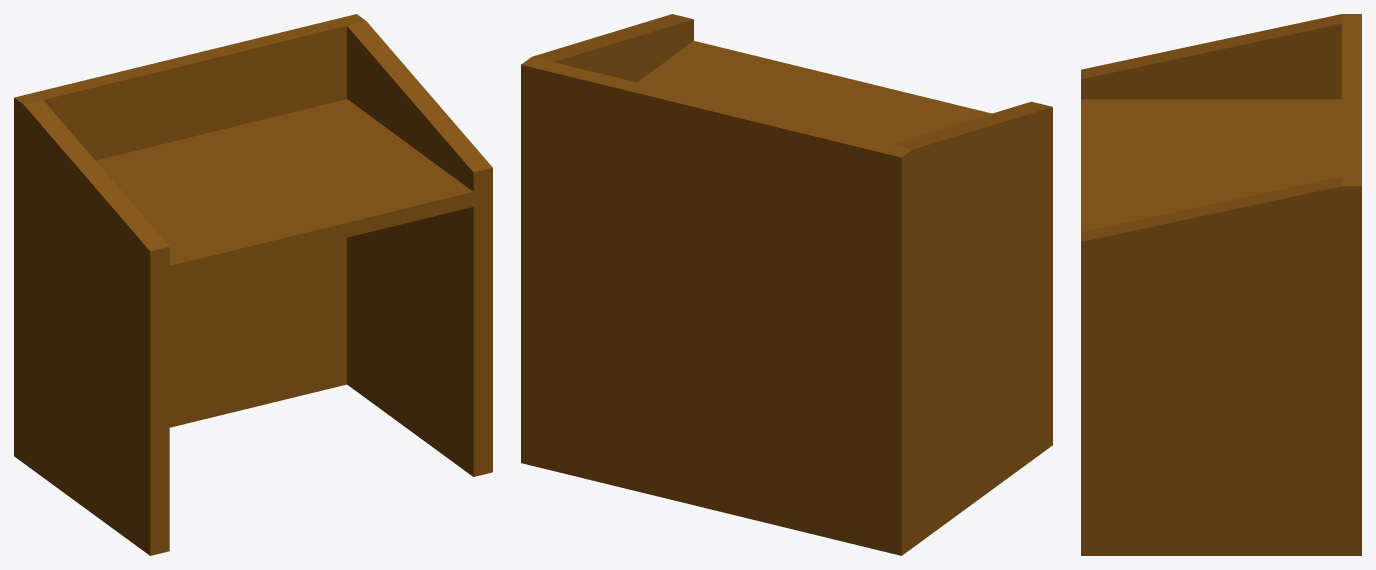
Rendered from Kyodan.fbx.
3 renders of one model, left to right at view 1: azimuth 30°, elevation 25°; view 2: azimuth 150°, elevation 25°; view 3: azimuth 270°, elevation 25°, orthographic. The views are drawn at different scales.
Parts seen in each view (by area): view 1: 立方体.014; view 2: 立方体.014; view 3: 立方体.014.
Part boxes in pixels (x1,y1,x2,y2): 立方体.014: (14, 14, 492, 555); 立方体.014: (521, 14, 1052, 555); 立方体.014: (1081, 14, 1361, 555).
Size of the model in its own units: 639 by 639 by 440.
